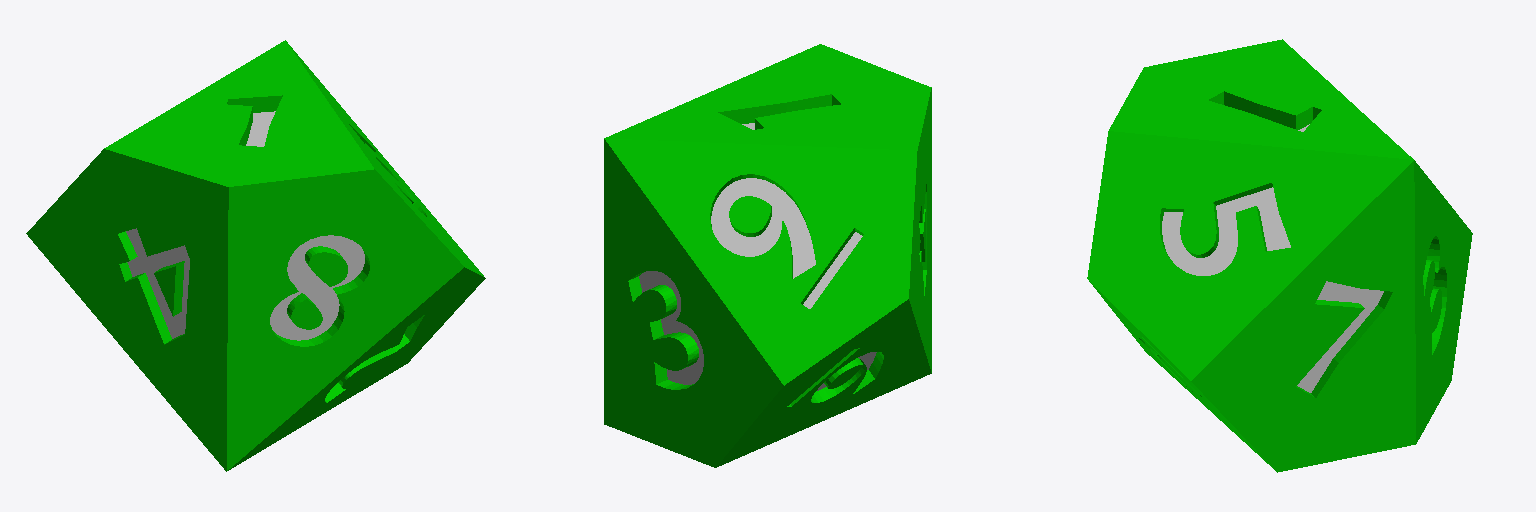
File: Dice10.obj
3 views of the same model, side by side, from view 1: azimuth 30°, elevation 25°; view 2: azimuth 150°, elevation 25°; view 3: azimuth 270°, elevation 25° (orthographic).
Visible parts, largest first — view 1: D10_16mm; view 2: D10_16mm; view 3: D10_16mm.
Part boxes in pixels (left/top/right/bottom): D10_16mm: left=26, top=40, right=485, bottom=471; D10_16mm: left=604, top=44, right=931, bottom=467; D10_16mm: left=1087, top=39, right=1472, bottom=472.
Bounding box in the file's own units: 2.17 × 1.6 × 1.95.